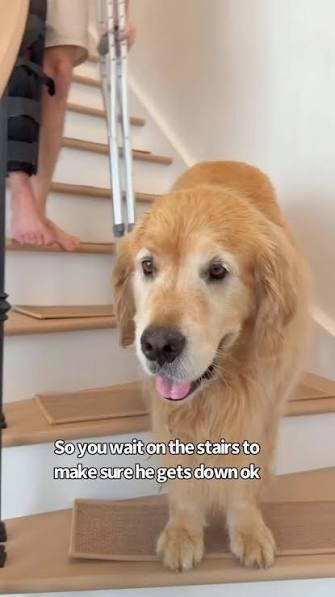adult_dog: (108, 159, 314, 575)
non-dog: (4, 0, 143, 254)
